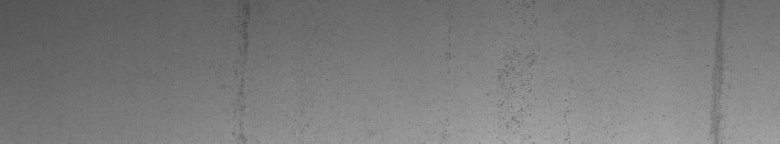ib: (446, 53, 535, 127)
